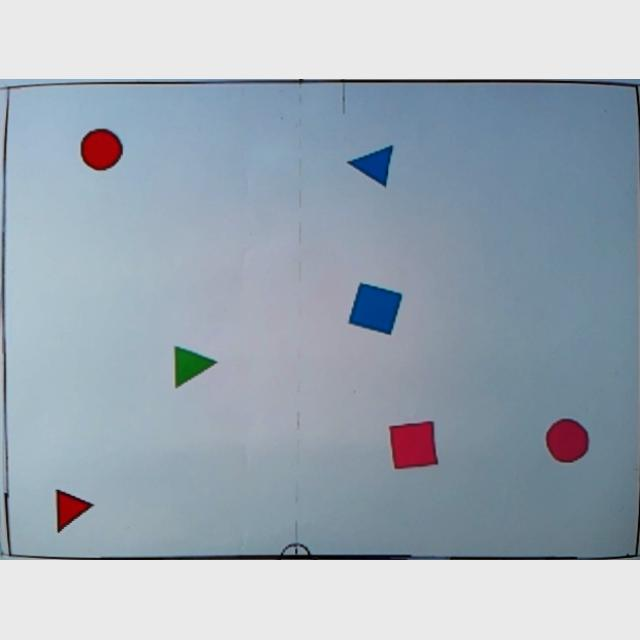blueSquare: (348, 283, 402, 337)
blueTriangle: (346, 147, 394, 189)
greenTriangle: (174, 347, 218, 389)
pinkCircle: (546, 420, 590, 464)
pinkSquare: (389, 422, 438, 470)
redCircle: (80, 128, 124, 172)
redTriangle: (46, 489, 94, 536)
